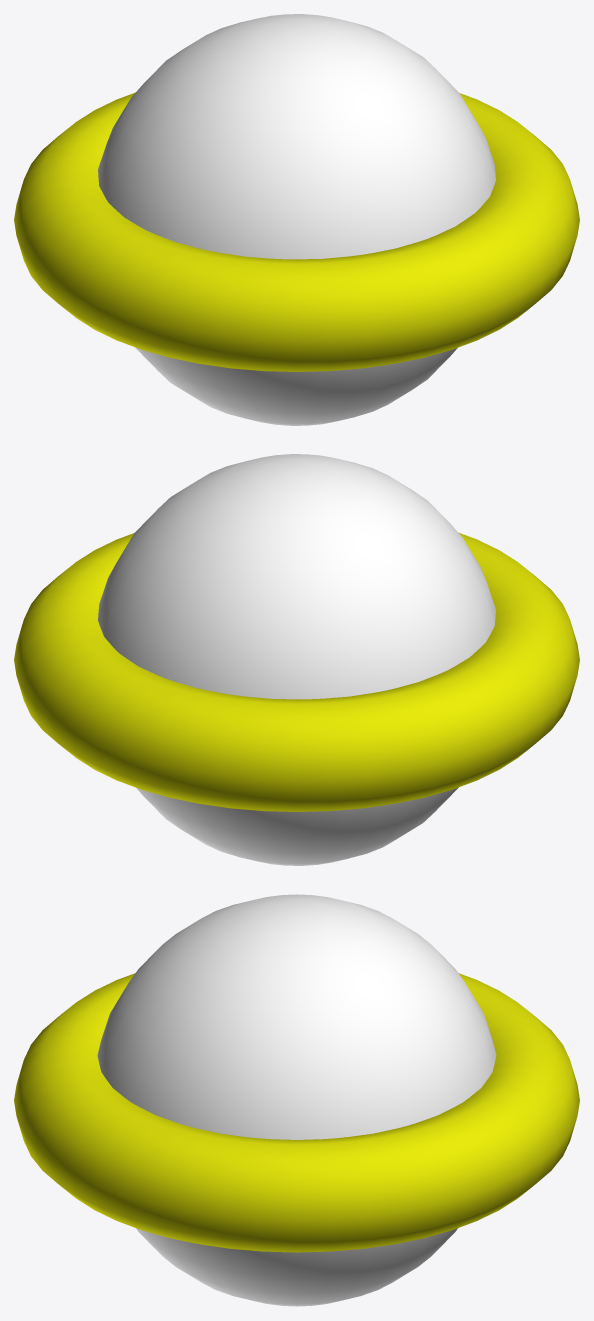
The model's file is palletta.glb.
The picture shows the model from 3 angles, top to bottom: view 1: azimuth 30°, elevation 25°; view 2: azimuth 150°, elevation 25°; view 3: azimuth 270°, elevation 25°; orthographic projection.
Visible parts, largest first — view 1: Torus; view 2: Torus; view 3: Torus.
Part boxes in pixels (x1,y1,x2,y2): Torus: (14, 14, 579, 425); Torus: (14, 454, 579, 865); Torus: (14, 894, 579, 1306).
Size of the model in its own units: 2.74 by 2 by 2.74.
